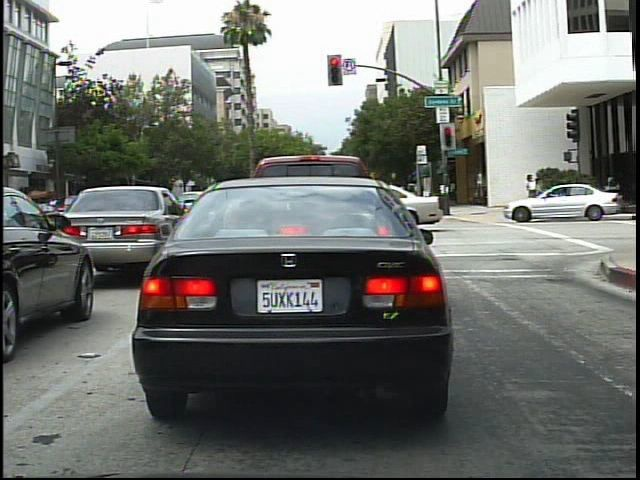person: (533, 173, 552, 218), (524, 173, 539, 215)
